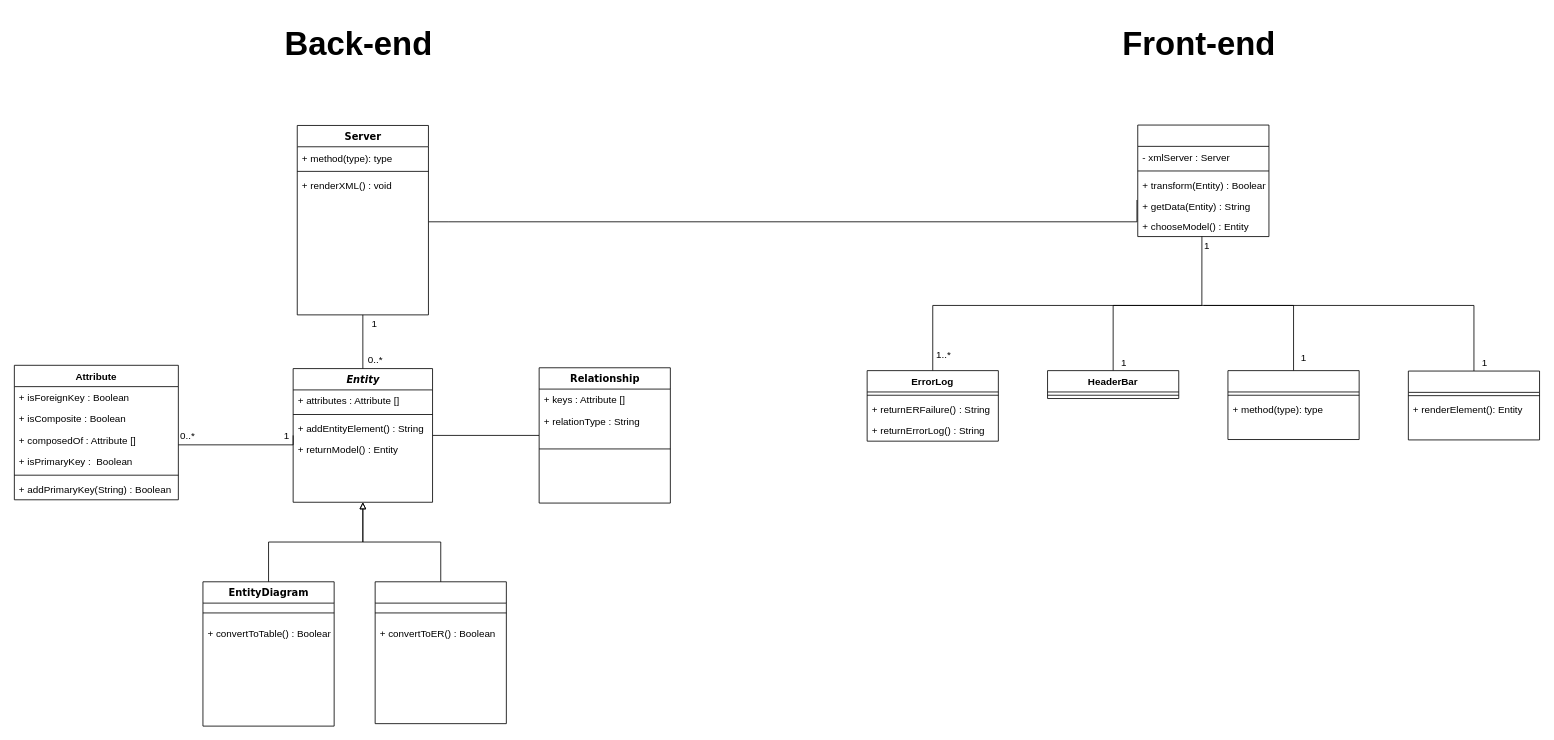
The diagram is 1554 pixels wide and 740 high, and some of its shapes have lost their labels. Each missing label, with the box of its shape:
ActionArea: (1408, 370, 1540, 440)
EntityTable: (374, 581, 506, 724)
GUI: (1137, 124, 1269, 237)
Sidebar: (1227, 370, 1359, 440)
